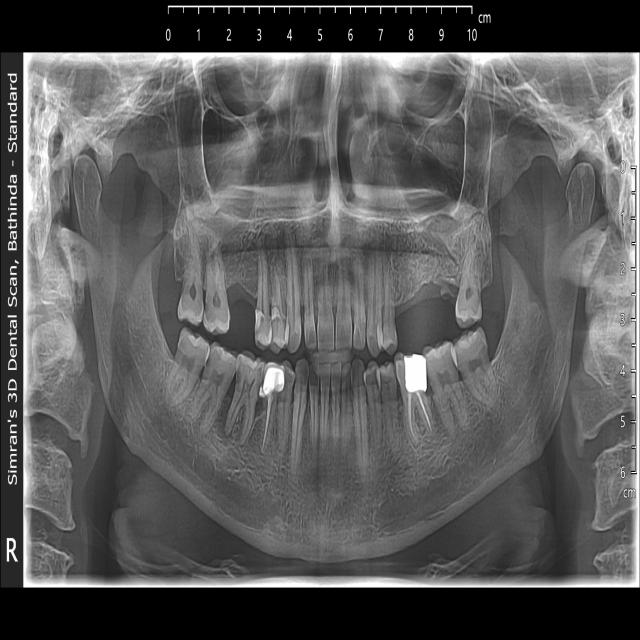Caries: (235, 356, 270, 399), (204, 343, 236, 388), (279, 367, 294, 397), (310, 357, 321, 390)
Filling: (402, 354, 428, 393), (270, 306, 289, 346), (255, 309, 271, 348), (364, 362, 381, 398)
Missing teeth: (389, 252, 455, 337), (229, 261, 252, 320)
Periapical lesion: (215, 397, 238, 445)
Root Canal Treatment: (394, 358, 434, 447), (260, 360, 285, 452)
